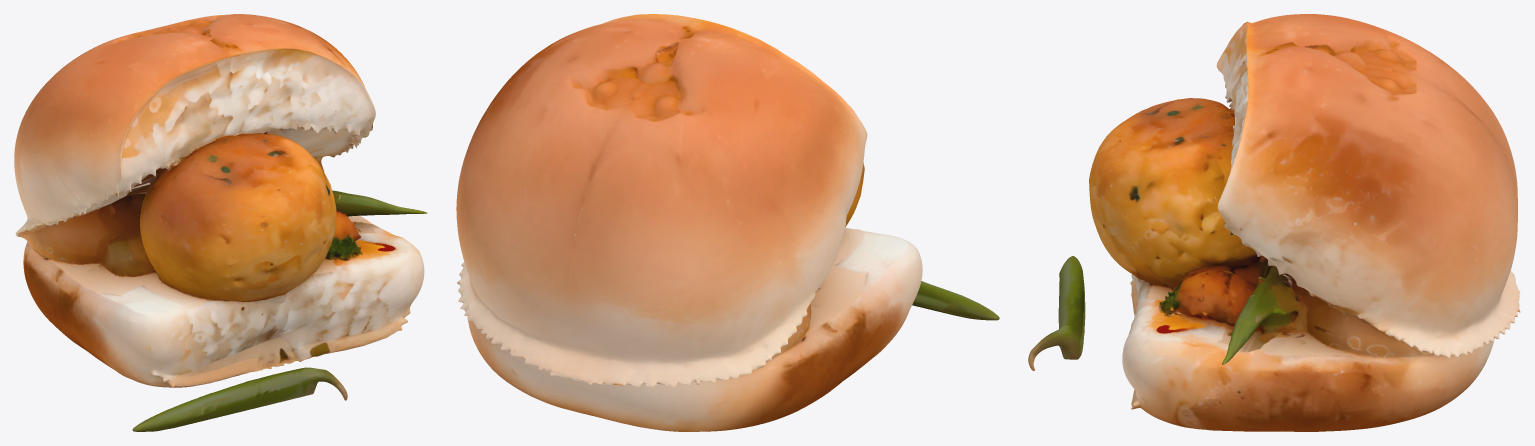
The model's file is vadapav.glb.
3 renders of one model, left to right at view 1: azimuth 30°, elevation 25°; view 2: azimuth 150°, elevation 25°; view 3: azimuth 270°, elevation 25°, orthographic. The views are drawn at different scales.
Visible parts, largest first — view 1: Object_4; view 2: Object_4; view 3: Object_4.
Boxes of the visible parts, left/top/right/bottom form: Object_4: left=14, top=14, right=427, bottom=431; Object_4: left=456, top=14, right=999, bottom=431; Object_4: left=1028, top=14, right=1520, bottom=431.
Size of the model in its own units: 1.81 by 1.35 by 1.9.
Materials: 1 (1 with a texture image).
